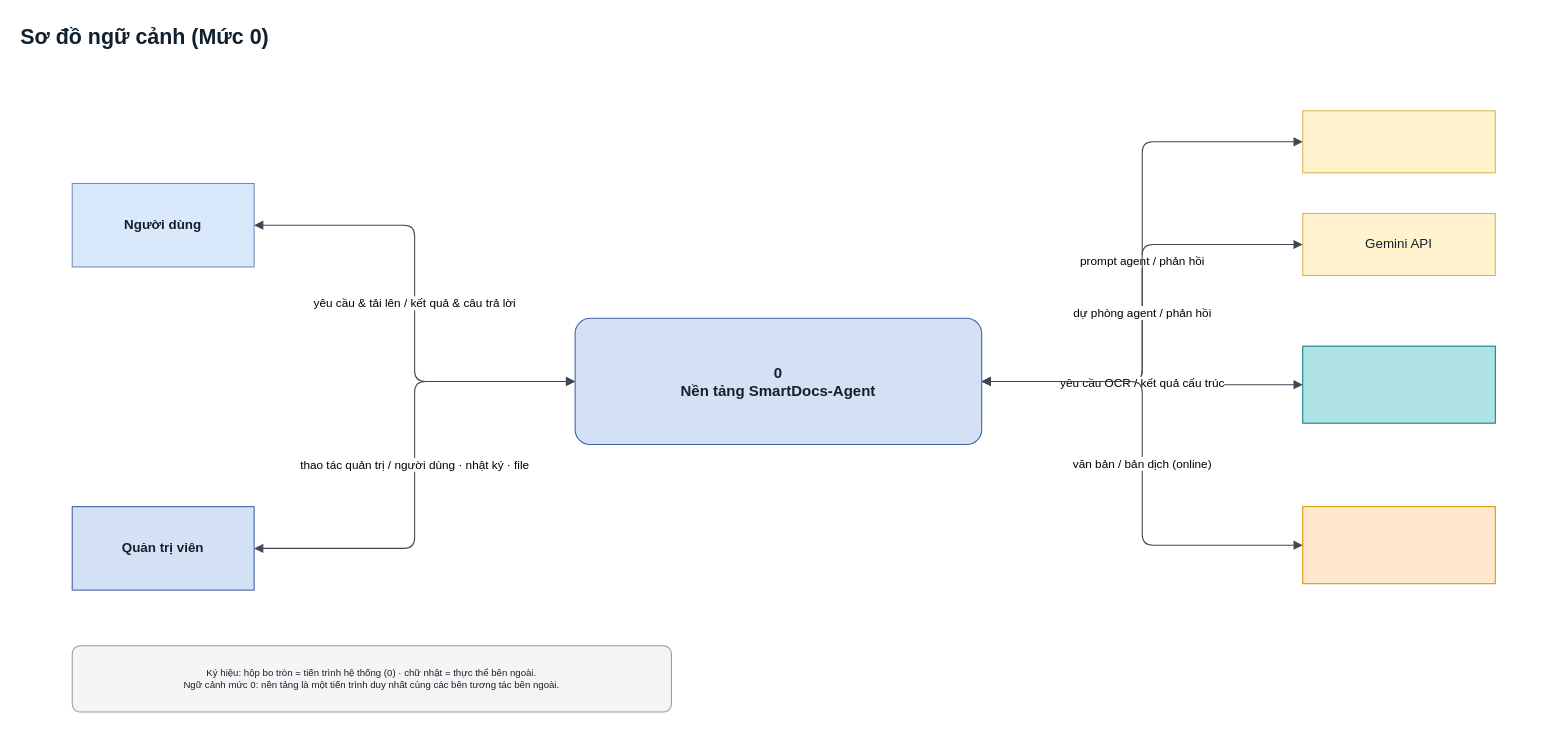
Image size: 1556x731. Some labels were removed from this diagram. The box of each missing label's shape, as (x1, y1, x2, y2) in pixels:
Dịch trực tuyến (Google): (1302, 506, 1495, 584)
GLM-OCR MLX server :8080: (1302, 345, 1495, 423)
Groq API: (1302, 110, 1495, 173)
